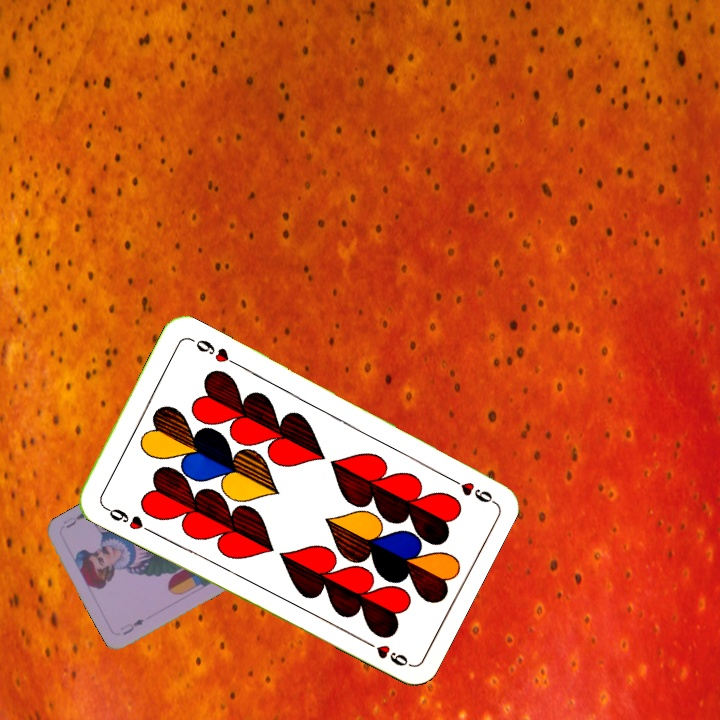EU: (116, 615, 147, 637)
H9: (441, 471, 495, 506), (99, 502, 154, 535)
